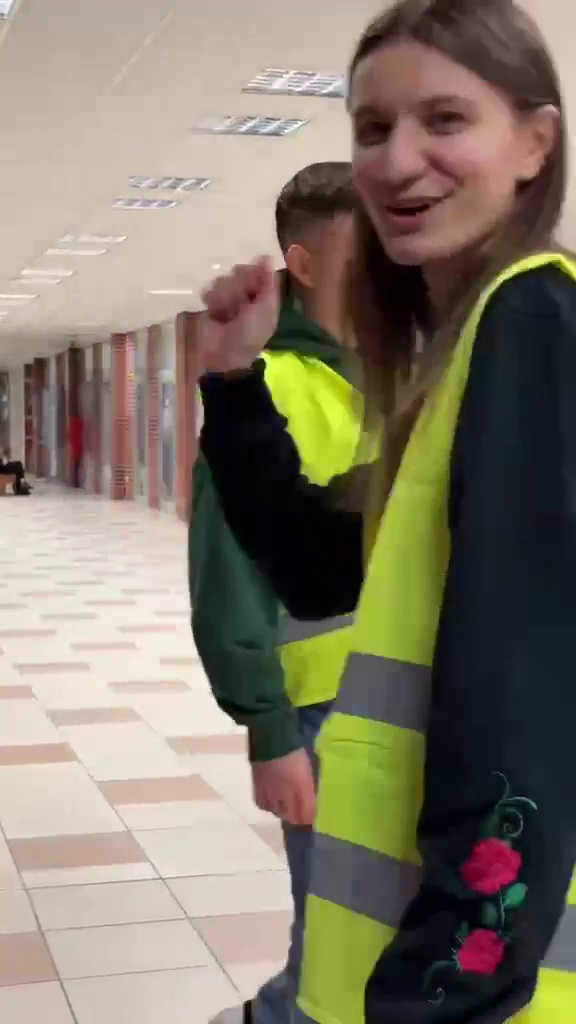vest: (202, 25, 576, 989)
